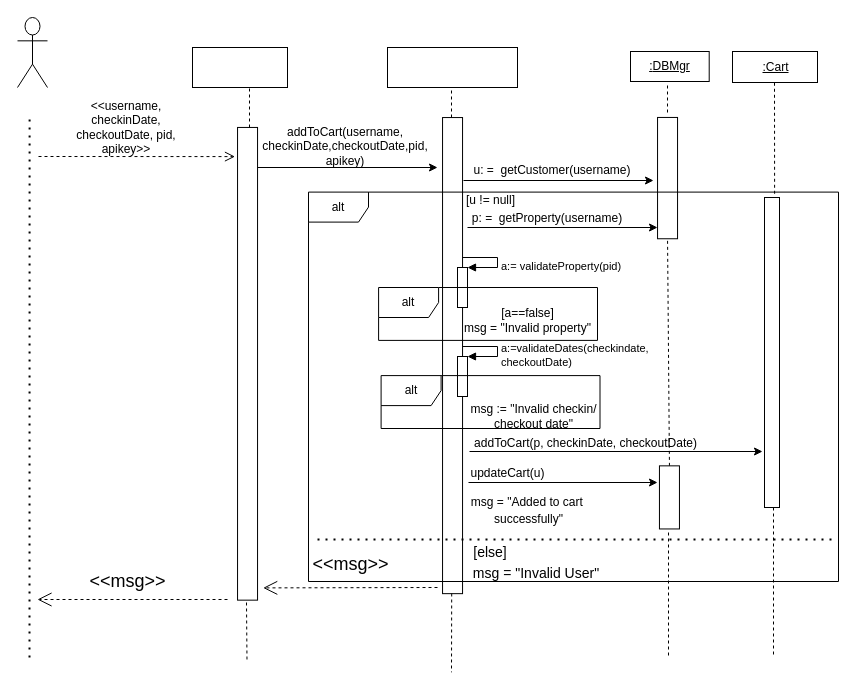
The diagram is 857 pixels wide and 691 high, and some of its shapes have lost their labels. Each missing label, with the centre of its shape:
":AddToCartAPI" belongs at pixel 240 67.
":Controller" belongs at pixel 452 67.
"Actor" belongs at pixel 32 52.
